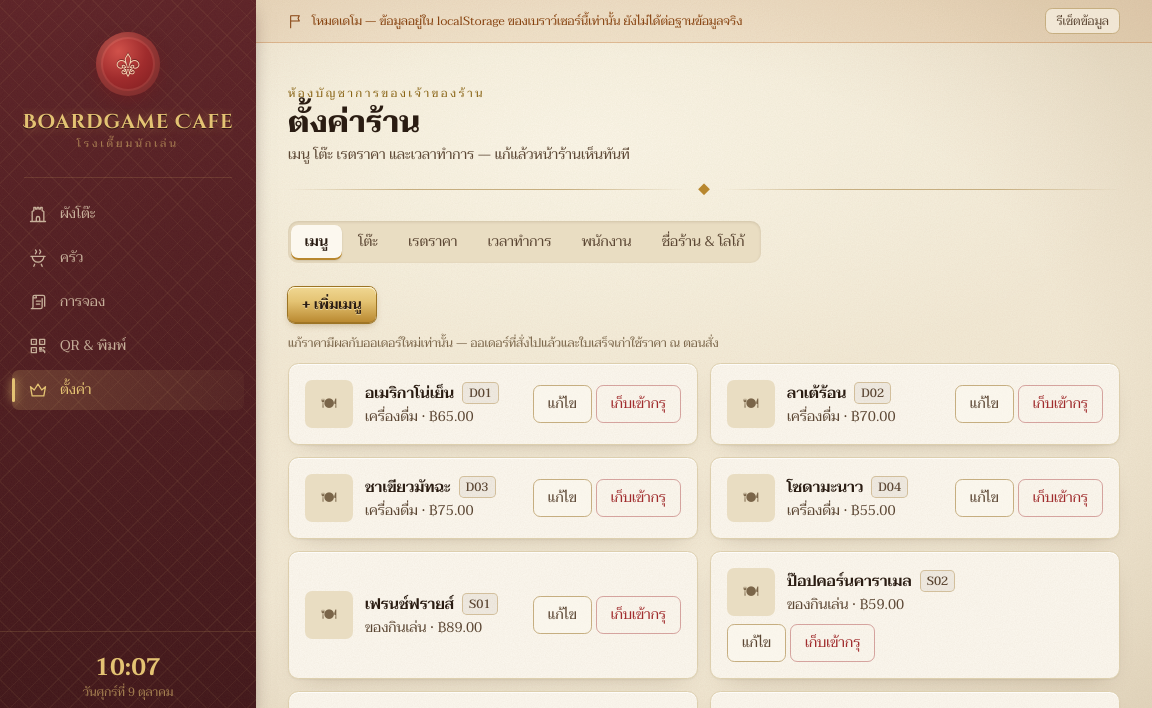
Scenario: หน้าจัดการพนักงาน › บัญชีตัวเองถูกทำเครื่องหมายและปิดปุ่มไว้
This screenshot has width=1152, height=708.
Click the button "พนักงาน". click: (607,242)
box: [568, 225, 645, 260]
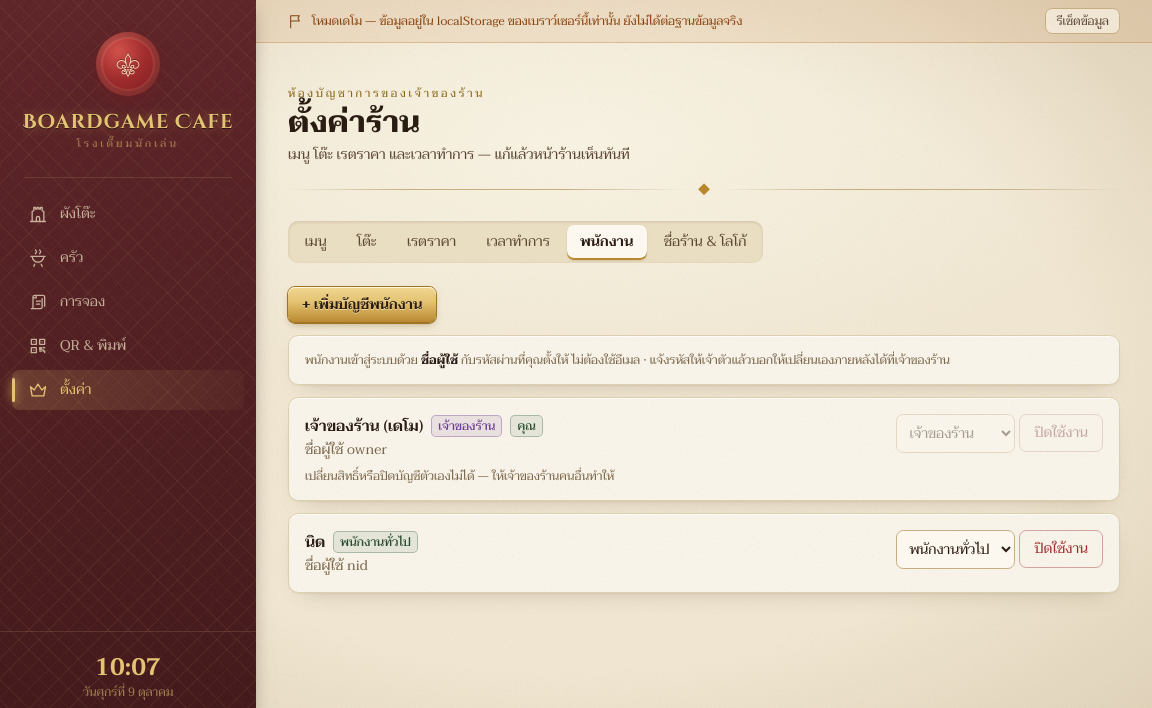
Expected: the text "เจ้าของร้าน (เดโม)" is shown, [305, 414, 423, 438]
Expected: the text "คุณ" is shown, [510, 415, 543, 437]
Expected: the text "เปลี่ยนสิทธิ์หรือปิดบัญชีตัวเองไม่ได้" is shown, [305, 466, 614, 486]
